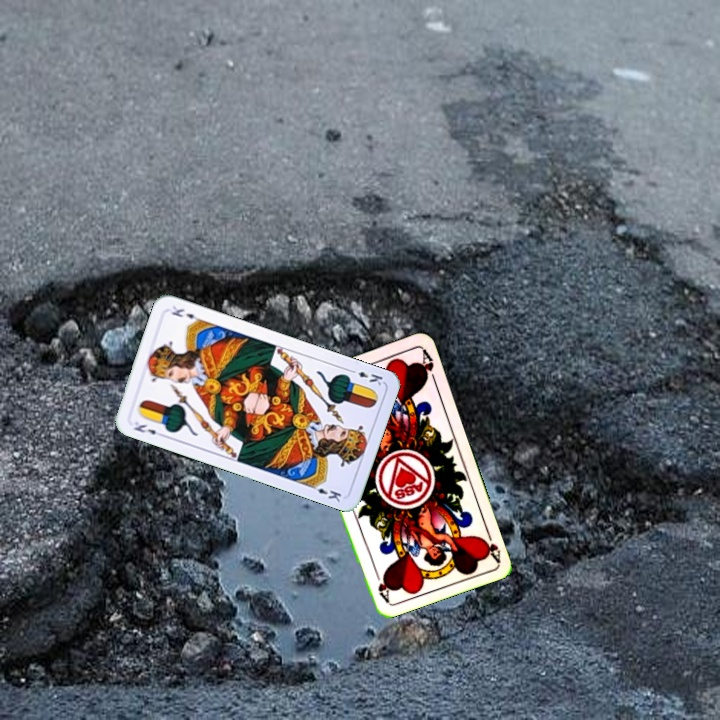EK: (345, 365, 385, 388), (130, 418, 166, 440)
HA: (478, 524, 503, 564)
